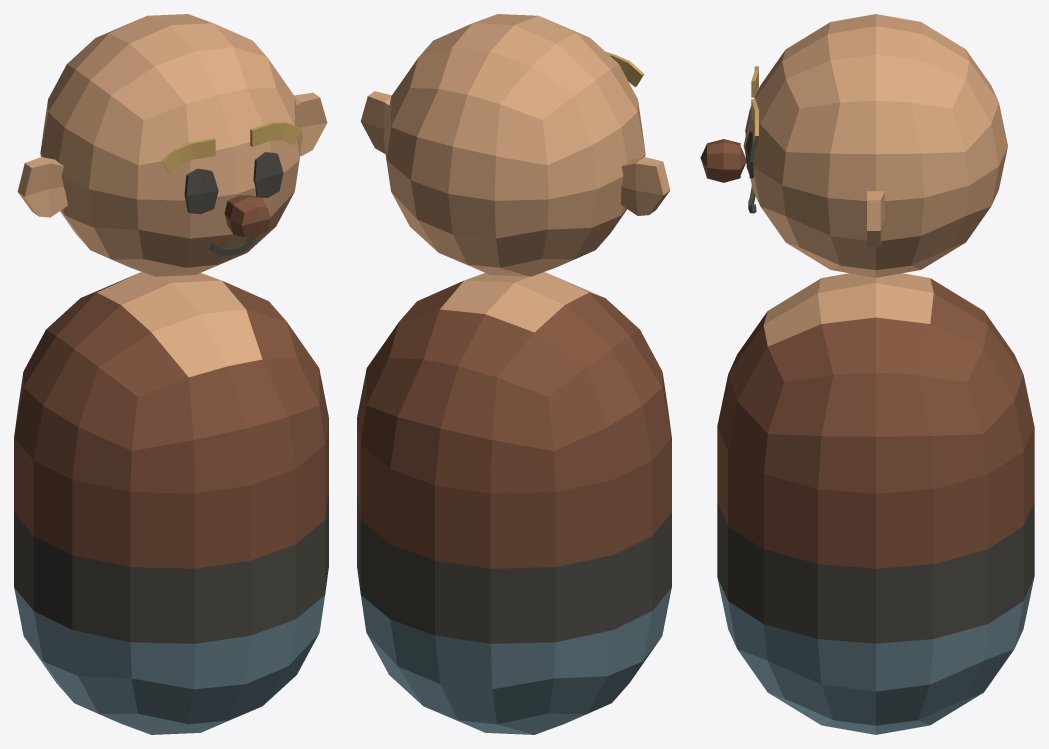
The model's file is Player Cowok Tua.fbx.
The picture shows the model from 3 angles, left to right: view 1: azimuth 30°, elevation 25°; view 2: azimuth 150°, elevation 25°; view 3: azimuth 270°, elevation 25°; orthographic projection.
Visible parts, largest first — view 1: Tubuh Cowok Tua, Kepala Cowok Tua; view 2: Tubuh Cowok Tua, Kepala Cowok Tua; view 3: Tubuh Cowok Tua, Kepala Cowok Tua.
Boxes of the visible parts, x1,y1,x2,y2 form: Tubuh Cowok Tua: (14,272,328,734); Kepala Cowok Tua: (17,14,327,276); Tubuh Cowok Tua: (357,272,671,734); Kepala Cowok Tua: (360,14,670,276); Tubuh Cowok Tua: (717,273,1034,734); Kepala Cowok Tua: (700,14,1007,277).
Bounding box in the file's own units: 0.844 × 1.85 × 0.8084.
Materials: 1 (1 with a texture image).
